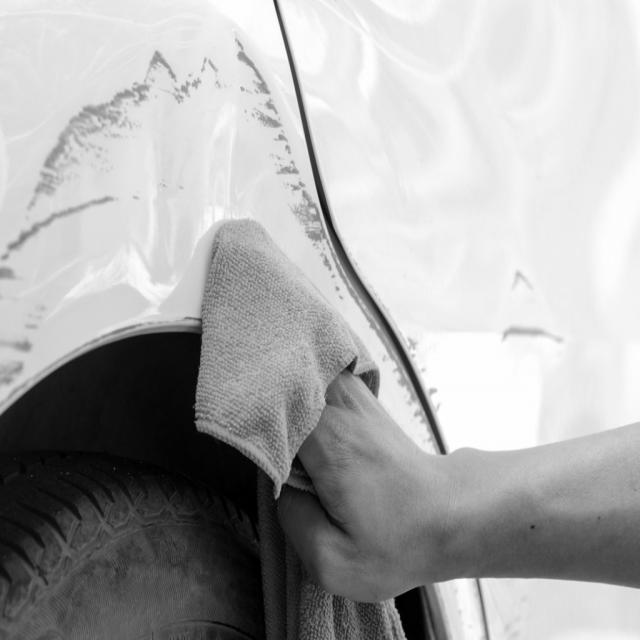scratch: (0, 34, 443, 455), (498, 261, 567, 349)
